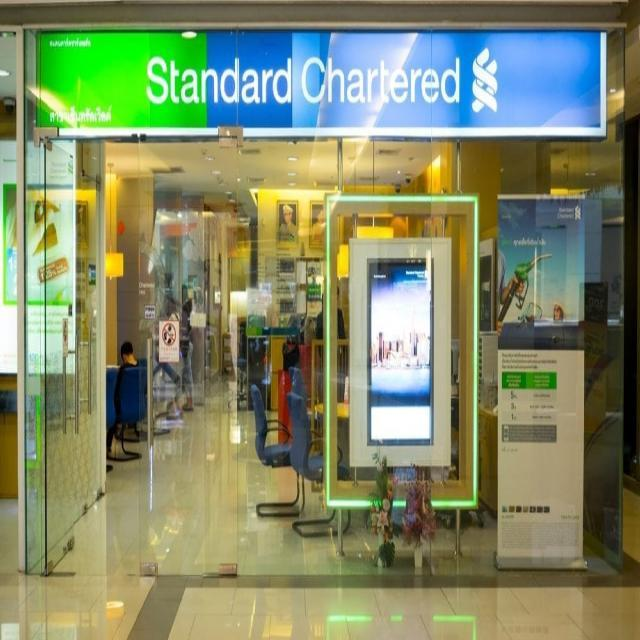Standard Chartered: (145, 46, 499, 116)
